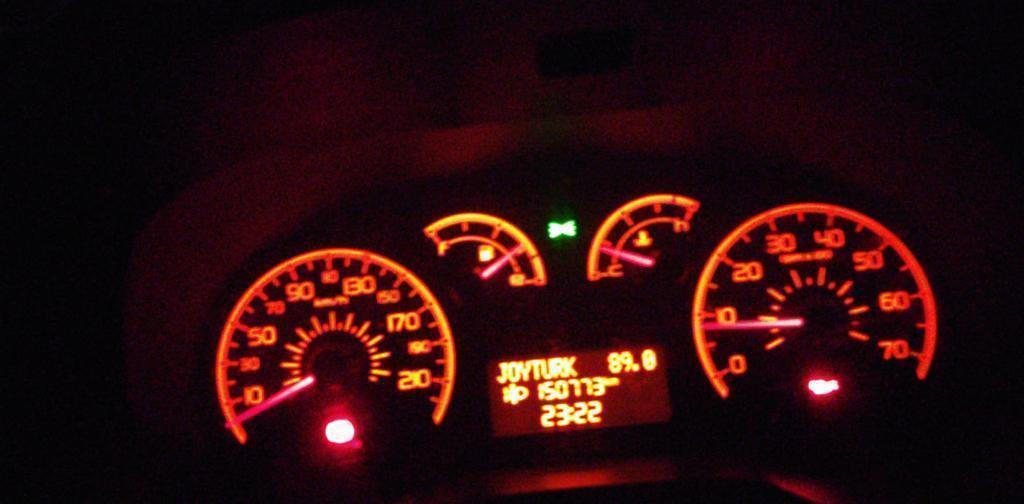,: (632, 362, 640, 372)
0: (640, 347, 657, 371), (555, 379, 568, 399)
1: (535, 382, 543, 401), (501, 386, 509, 404)
2: (538, 403, 555, 428), (587, 400, 602, 424), (574, 400, 587, 425)
3: (555, 402, 569, 427), (592, 375, 603, 396)
5: (543, 380, 555, 401)
7: (580, 377, 592, 396), (568, 378, 580, 397)
8: (605, 351, 621, 374)
9: (621, 350, 632, 373)
X: (564, 355, 578, 378), (495, 360, 507, 384), (540, 358, 552, 380), (519, 359, 531, 381), (507, 360, 519, 382), (552, 356, 563, 378), (531, 358, 540, 381), (569, 405, 574, 421), (609, 377, 619, 385), (603, 375, 609, 386)
odometer: (483, 340, 674, 441)
